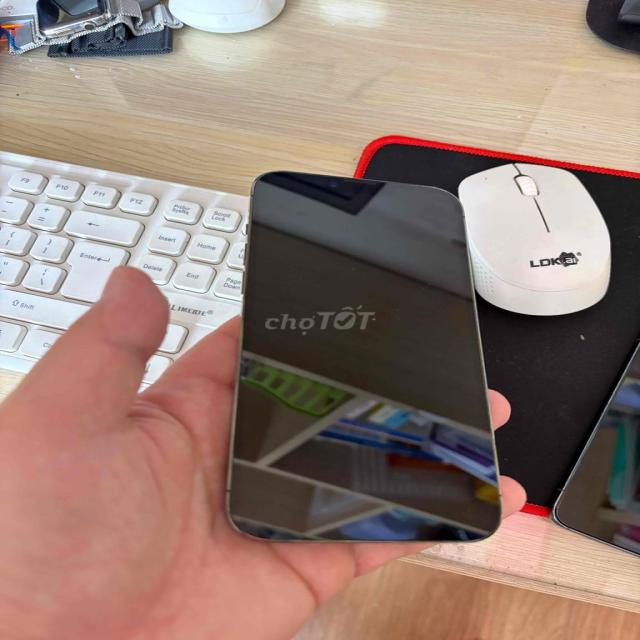gen_12_13: (218, 163, 507, 549)
